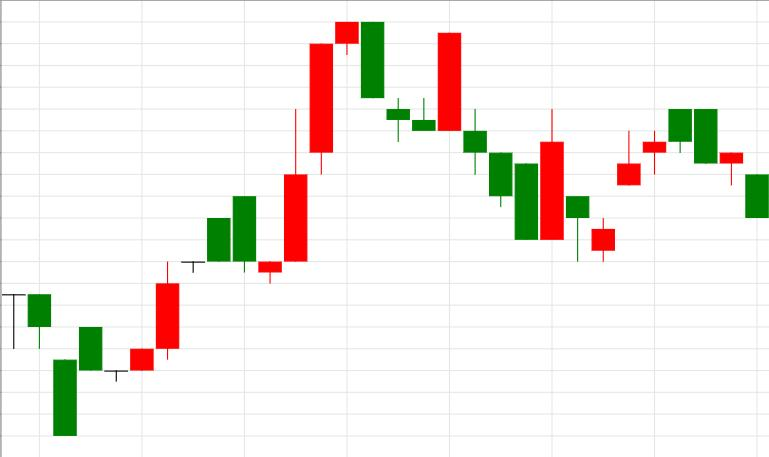bearish_engulfing_fall: (259, 22, 384, 284)
bullish_engulfing_rise: (361, 22, 564, 241)
